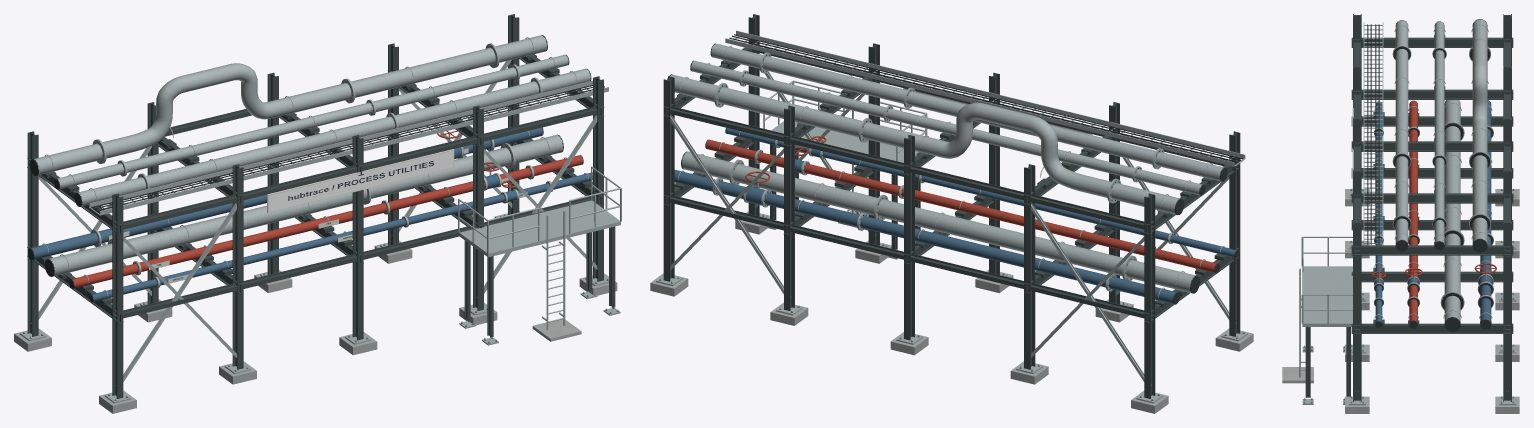
Rendered from process-pipe-rack.glb.
3 renders of one model, left to right at view 1: azimuth 30°, elevation 25°; view 2: azimuth 150°, elevation 25°; view 3: azimuth 270°, elevation 25°, orthographic. The views are drawn at different scales.
Visible parts, largest first — view 1: pipe_rack_structure_powder-coated-frame, process_utility_pipes_galvanized-steel, process_utility_pipes_brushed-metal-panels, process_utility_pipes_utility-blue, process-pipe-rack_galvanized-steel, pipe_rack_structure_galvanized-steel, process_utility_pipes_fire-protection-red, pipe_rack_structure_cast-concrete, process-pipe-rack_pipe-rack-id-ink, process_utility_pipes_rubber-gaskets, process-pipe-rack_powder-coated-frame, process_utility_pipes_powder-coated-frame (+3 smaller); view 2: pipe_rack_structure_powder-coated-frame, process_utility_pipes_galvanized-steel, process_utility_pipes_brushed-metal-panels, process_utility_pipes_utility-blue, pipe_rack_structure_galvanized-steel, process_utility_pipes_fire-protection-red, pipe_rack_structure_cast-concrete, process_utility_pipes_rubber-gaskets, process_utility_pipes_powder-coated-frame, process-pipe-rack_galvanized-steel, process_utility_pipes_dark-service-metal, process-pipe-rack_powder-coated-frame; view 3: pipe_rack_structure_powder-coated-frame, process_utility_pipes_galvanized-steel, process_utility_pipes_brushed-metal-panels, process-pipe-rack_galvanized-steel, process_utility_pipes_rubber-gaskets, process_utility_pipes_utility-blue, pipe_rack_structure_cast-concrete, process_utility_pipes_fire-protection-red, process_utility_pipes_dark-service-metal, pipe_rack_structure_galvanized-steel, process-pipe-rack_powder-coated-frame, process_utility_pipes_powder-coated-frame (+1 smaller).
Boxes of the visible parts, <box> form: pipe_rack_structure_powder-coated-frame: <box>27,14,604,398</box>; process_utility_pipes_galvanized-steel: <box>42,37,608,296</box>; process_utility_pipes_brushed-metal-panels: <box>34,35,590,206</box>; process_utility_pipes_utility-blue: <box>30,127,592,301</box>; process-pipe-rack_galvanized-steel: <box>458,166,621,345</box>; pipe_rack_structure_galvanized-steel: <box>19,59,608,403</box>; process_utility_pipes_fire-protection-red: <box>72,129,583,288</box>; pipe_rack_structure_cast-concrete: <box>14,211,617,413</box>; process-pipe-rack_pipe-rack-id-ink: <box>269,151,452,211</box>; process_utility_pipes_rubber-gaskets: <box>91,85,604,223</box>; process-pipe-rack_powder-coated-frame: <box>464,226,615,337</box>; process_utility_pipes_powder-coated-frame: <box>38,54,592,304</box>; pipe_rack_structure_powder-coated-frame: <box>663,14,1240,398</box>; process_utility_pipes_galvanized-steel: <box>677,30,1245,297</box>; process_utility_pipes_brushed-metal-panels: <box>670,43,1224,214</box>; process_utility_pipes_utility-blue: <box>674,128,1235,303</box>; pipe_rack_structure_galvanized-steel: <box>656,71,1247,403</box>; process_utility_pipes_fire-protection-red: <box>705,136,1217,272</box>; pipe_rack_structure_cast-concrete: <box>650,211,1253,413</box>; process_utility_pipes_rubber-gaskets: <box>729,34,1243,164</box>; process_utility_pipes_powder-coated-frame: <box>674,60,1229,307</box>; process-pipe-rack_galvanized-steel: <box>763,80,927,259</box>; process_utility_pipes_dark-service-metal: <box>667,43,1238,304</box>; process-pipe-rack_powder-coated-frame: <box>770,144,920,249</box>; pipe_rack_structure_powder-coated-frame: <box>1351,14,1513,401</box>; process_utility_pipes_galvanized-steel: <box>1363,21,1493,322</box>; process_utility_pipes_brushed-metal-panels: <box>1395,19,1487,244</box>; process-pipe-rack_galvanized-steel: <box>1299,236,1352,404</box>; process_utility_pipes_rubber-gaskets: <box>1367,24,1493,309</box>; process_utility_pipes_utility-blue: <box>1374,100,1492,323</box>; pipe_rack_structure_cast-concrete: <box>1345,189,1519,413</box>; process_utility_pipes_fire-protection-red: <box>1371,101,1496,323</box>; process_utility_pipes_dark-service-metal: <box>1374,19,1492,331</box>; pipe_rack_structure_galvanized-steel: <box>1348,188,1516,405</box>; process-pipe-rack_powder-coated-frame: <box>1305,327,1350,398</box>; process_utility_pipes_powder-coated-frame: <box>1373,34,1491,330</box>.
Size of the model in its own units: 18.03 by 8.31 by 8.22.
8 materials, 8 textured.
